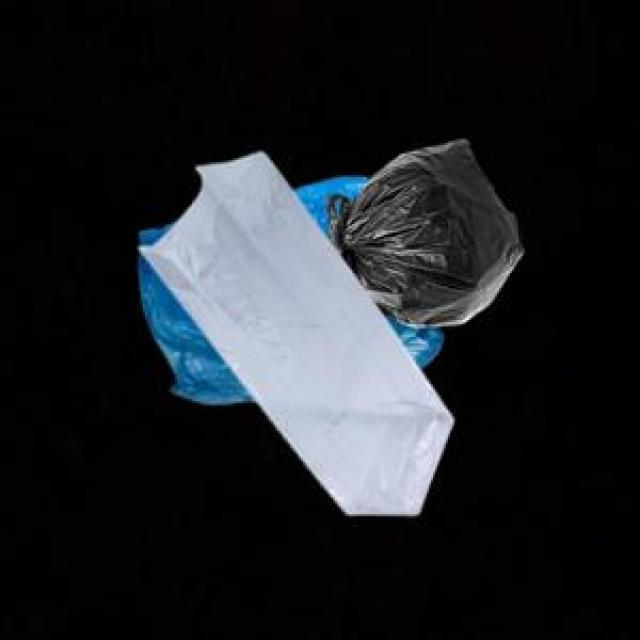miscellaneous trash: (322, 134, 518, 324)
